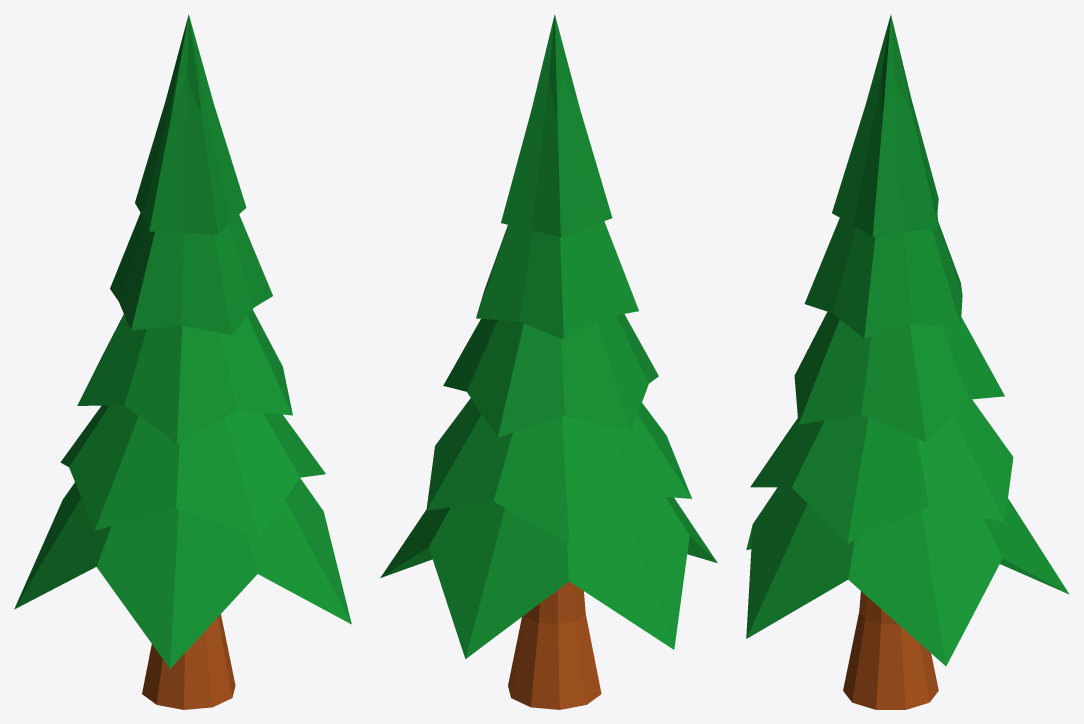
Rendered from Arvore_4_.fbx.
The picture shows the model from 3 angles, left to right: view 1: azimuth 30°, elevation 25°; view 2: azimuth 150°, elevation 25°; view 3: azimuth 270°, elevation 25°; orthographic projection.
Parts seen in each view (by area): view 1: node_id4, node_id6; view 2: node_id4, node_id6; view 3: node_id4, node_id6.
Part boxes in pixels (x1=…): node_id4: x1=14, y1=14, x2=351, y2=668; node_id6: x1=142, y1=614, x2=235, y2=709; node_id4: x1=380, y1=14, x2=717, y2=658; node_id6: x1=508, y1=581, x2=601, y2=709; node_id4: x1=746, y1=14, x2=1069, y2=666; node_id6: x1=843, y1=591, x2=938, y2=709.
Size of the model in its own units: 0.2333 by 0.512 by 0.2219.
Materials: 2 (2 with a texture image).
